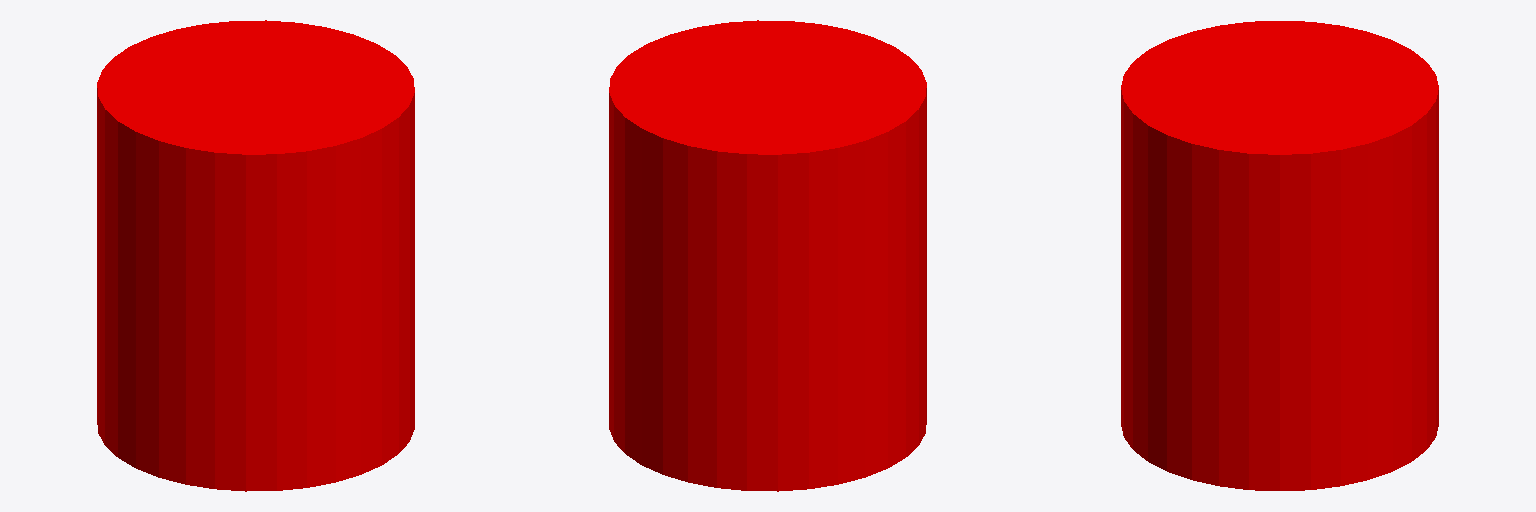
URDF robot description (cube):
<?xml version="0.0" ?>
<robot name="cube">
  <link name="cube">
    <contact>
      <lateral_friction value="0.7"/>
      <rolling_friction value="0.0"/>
      <contact_cfm value="0.0"/>
      <contact_erp value="0.1"/>
    </contact>
    <inertial>
      <origin rpy="0 0 0" xyz="0 0 0"/>
       <mass value=".0"/>
       <inertia ixx=".01" ixy="0" ixz="0" iyy=".01" iyz="0" izz=".01"/>
    </inertial>
    <visual>
      <origin rpy="0 0 0" xyz="0.0 0.0 0.0"/>
      <geometry>
        <cylinder radius="0.03" length="0.07"/>
      </geometry>
      <material name="desert sand">
        <color rgba="1. 0. 0. 1" />
      </material>
    </visual>
    <!-- <collision>
      <origin rpy="0 0 0" xyz="0.0 0.0 0.0"/>
      <geometry>
        <box size="0.05 0.05 0.05"/>
      </geometry>
    </collision> -->
  </link>


</robot>

--- Render facts (derived) ---
Views: 3 orthographic renders of the robot side by side, from view 1: azimuth 30°, elevation 25°; view 2: azimuth 150°, elevation 25°; view 3: azimuth 270°, elevation 25°.
Robot: cube — 1 links, 0 joints (none); root link cube; default pose: every joint at zero.
Visible links, largest first — view 1: cube; view 2: cube; view 3: cube.
Boxes of the visible links, <box> form: cube: <box>97,20,414,491</box>; cube: <box>609,20,926,491</box>; cube: <box>1121,21,1438,490</box>.
Size in the robot's own frame: 0.06 by 0.06 by 0.07 metres.
Geometry: primitives only (box / cylinder / sphere), no mesh files.